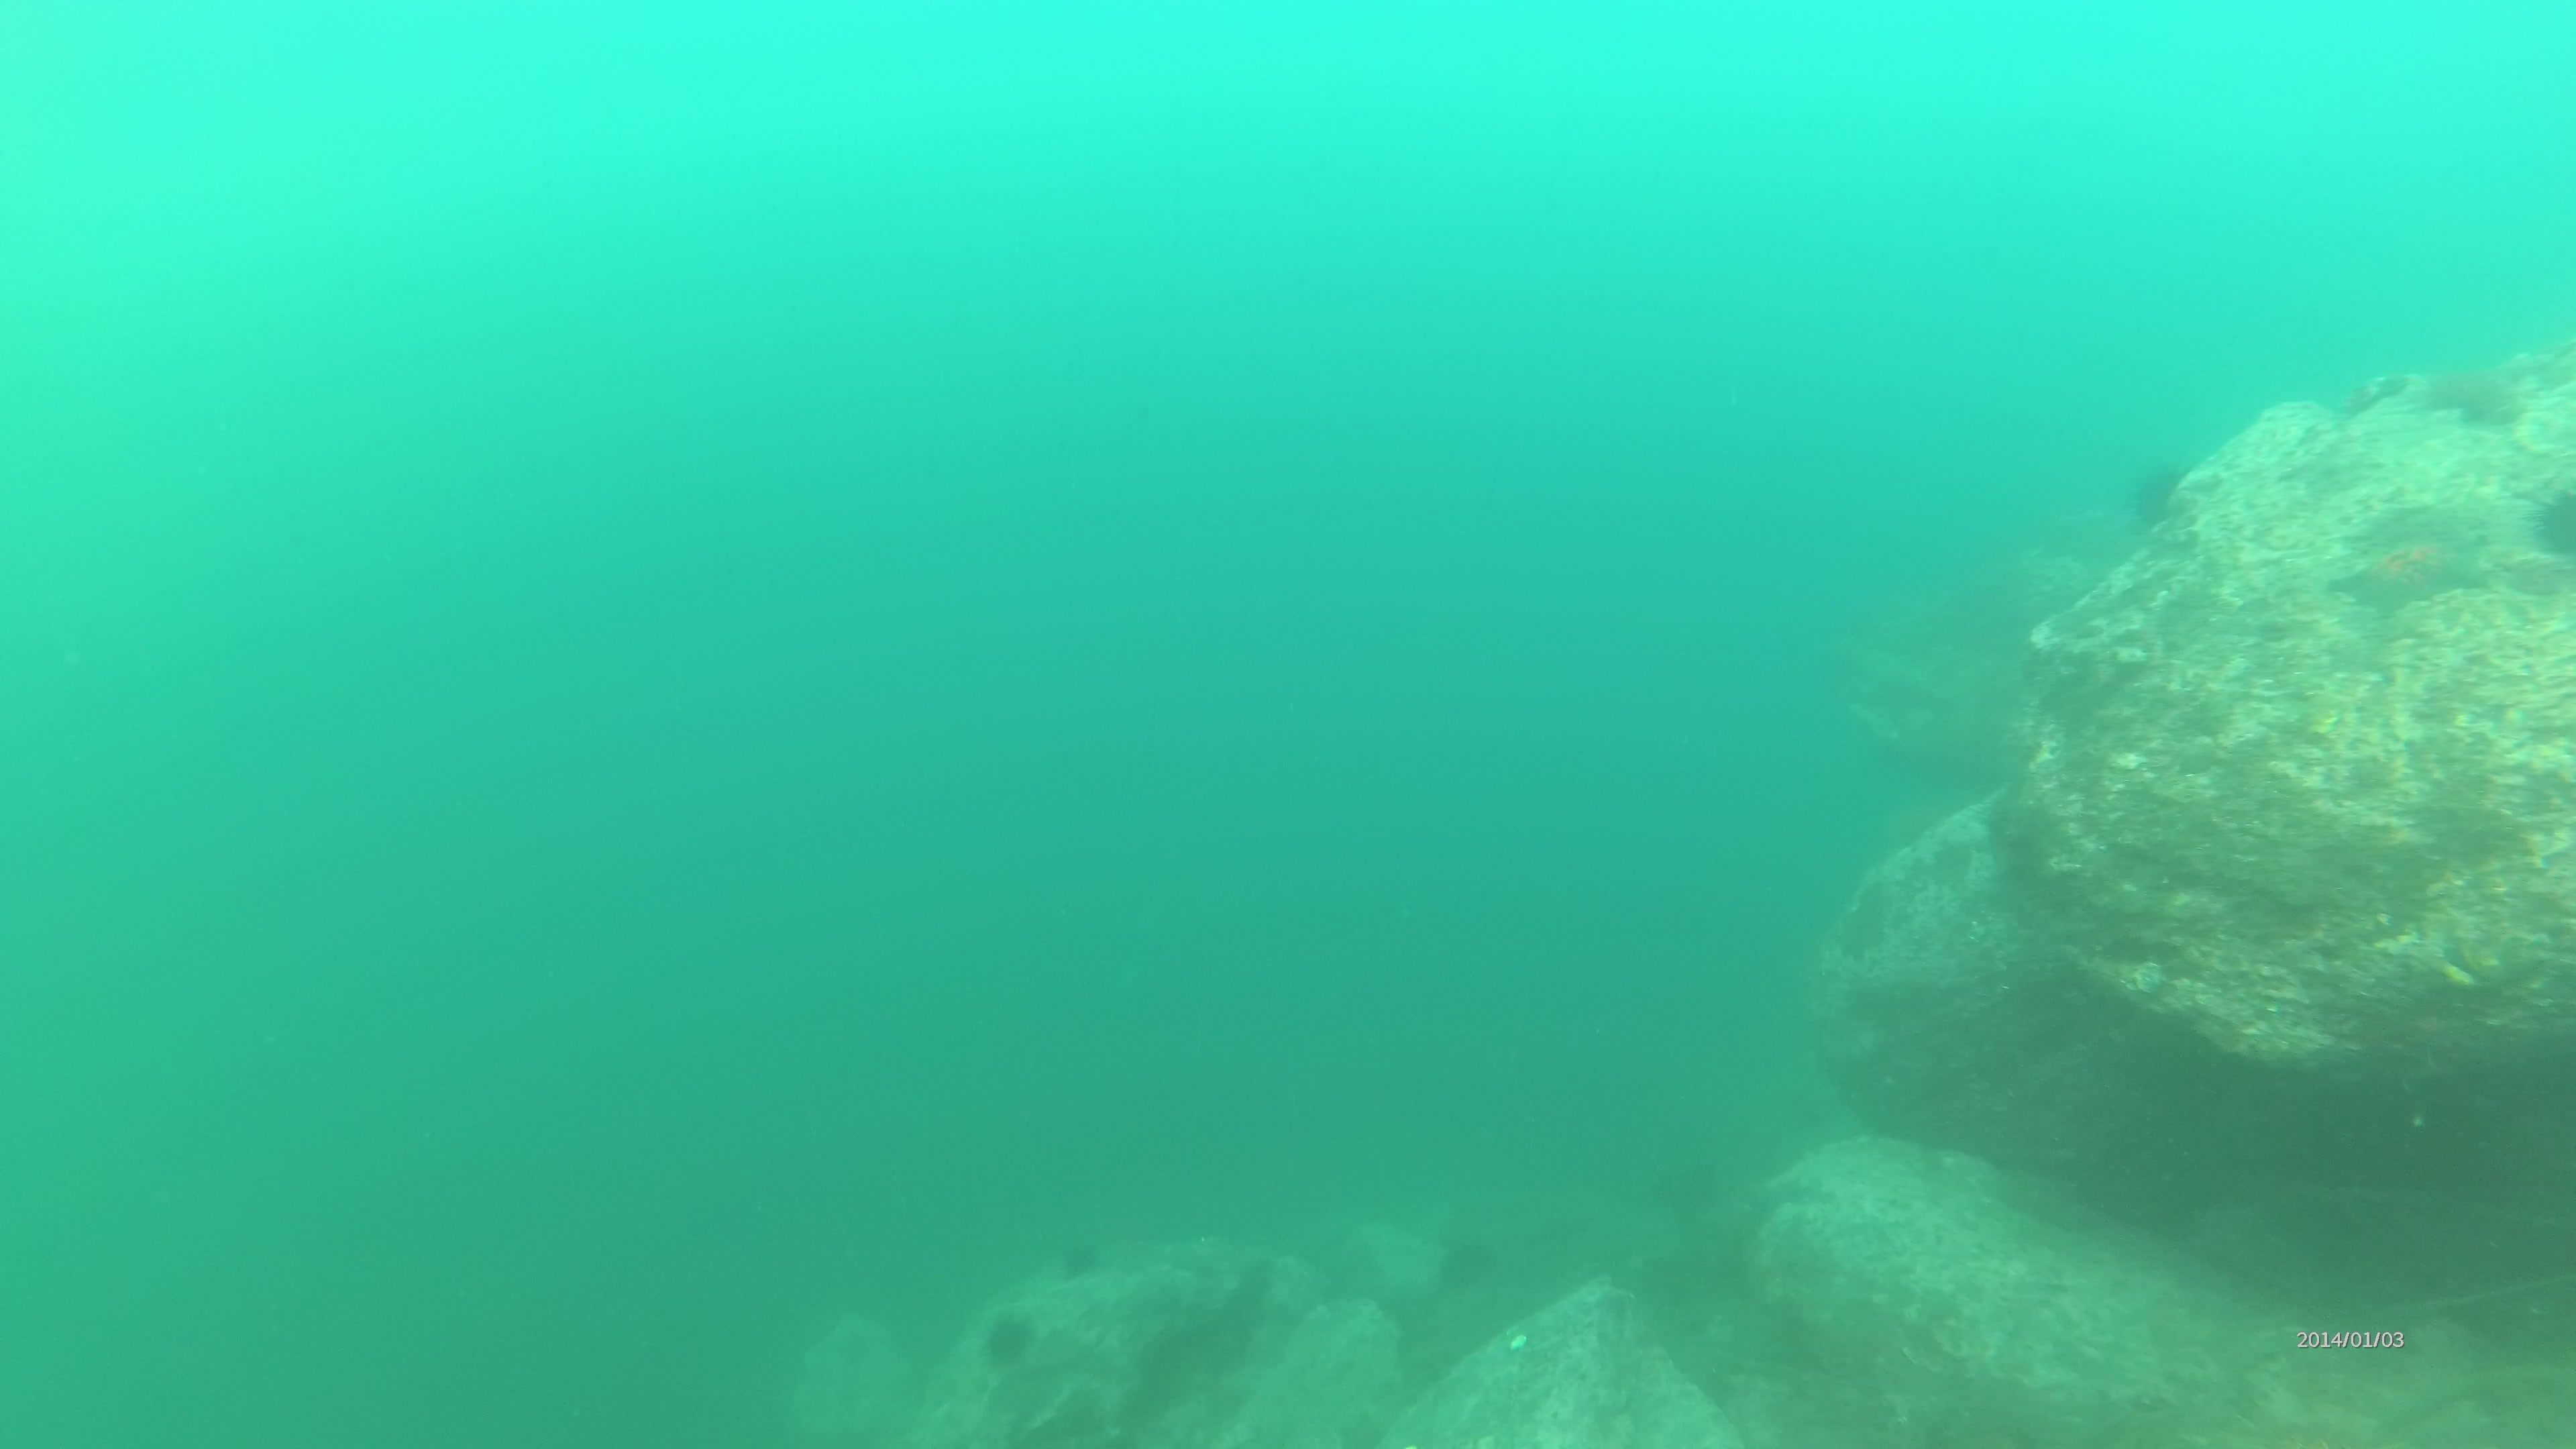echinus: (2429, 356, 2521, 425), (1042, 1235, 1106, 1286), (980, 1313, 1042, 1364), (1661, 1166, 1723, 1217), (1449, 1244, 1513, 1293), (2134, 465, 2187, 518)
starfish: (2334, 525, 2495, 614)
